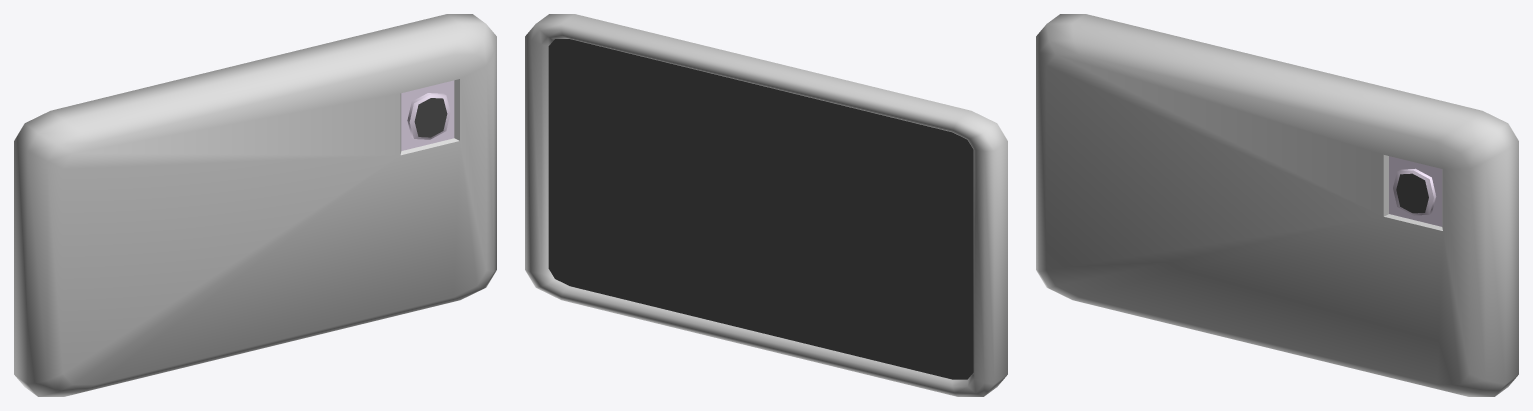
Rendered from Phone.fbx.
The picture shows the model from 3 angles, left to right: view 1: azimuth 30°, elevation 25°; view 2: azimuth 150°, elevation 25°; view 3: azimuth 330°, elevation 25°; orthographic projection.
Parts seen in each view (by area): view 1: Cube; view 2: Cube; view 3: Cube.
Boxes of the visible parts, x1,y1,x2,y2 form: Cube: (14,14,496,396); Cube: (525,14,1007,396); Cube: (1036,14,1518,396).
Size of the model in its own units: 0.1136 by 0.0639 by 0.0121.
